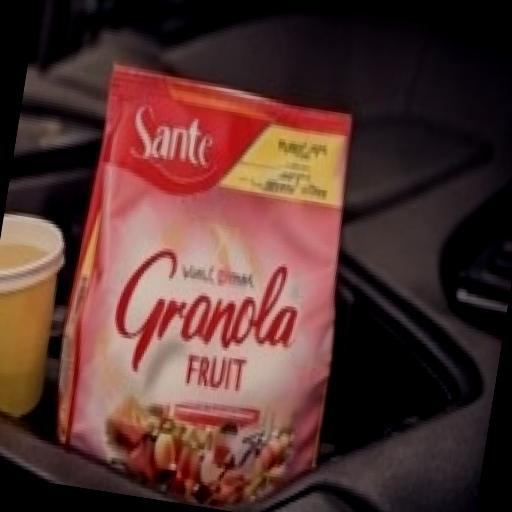granola: (0, 29, 423, 512)
